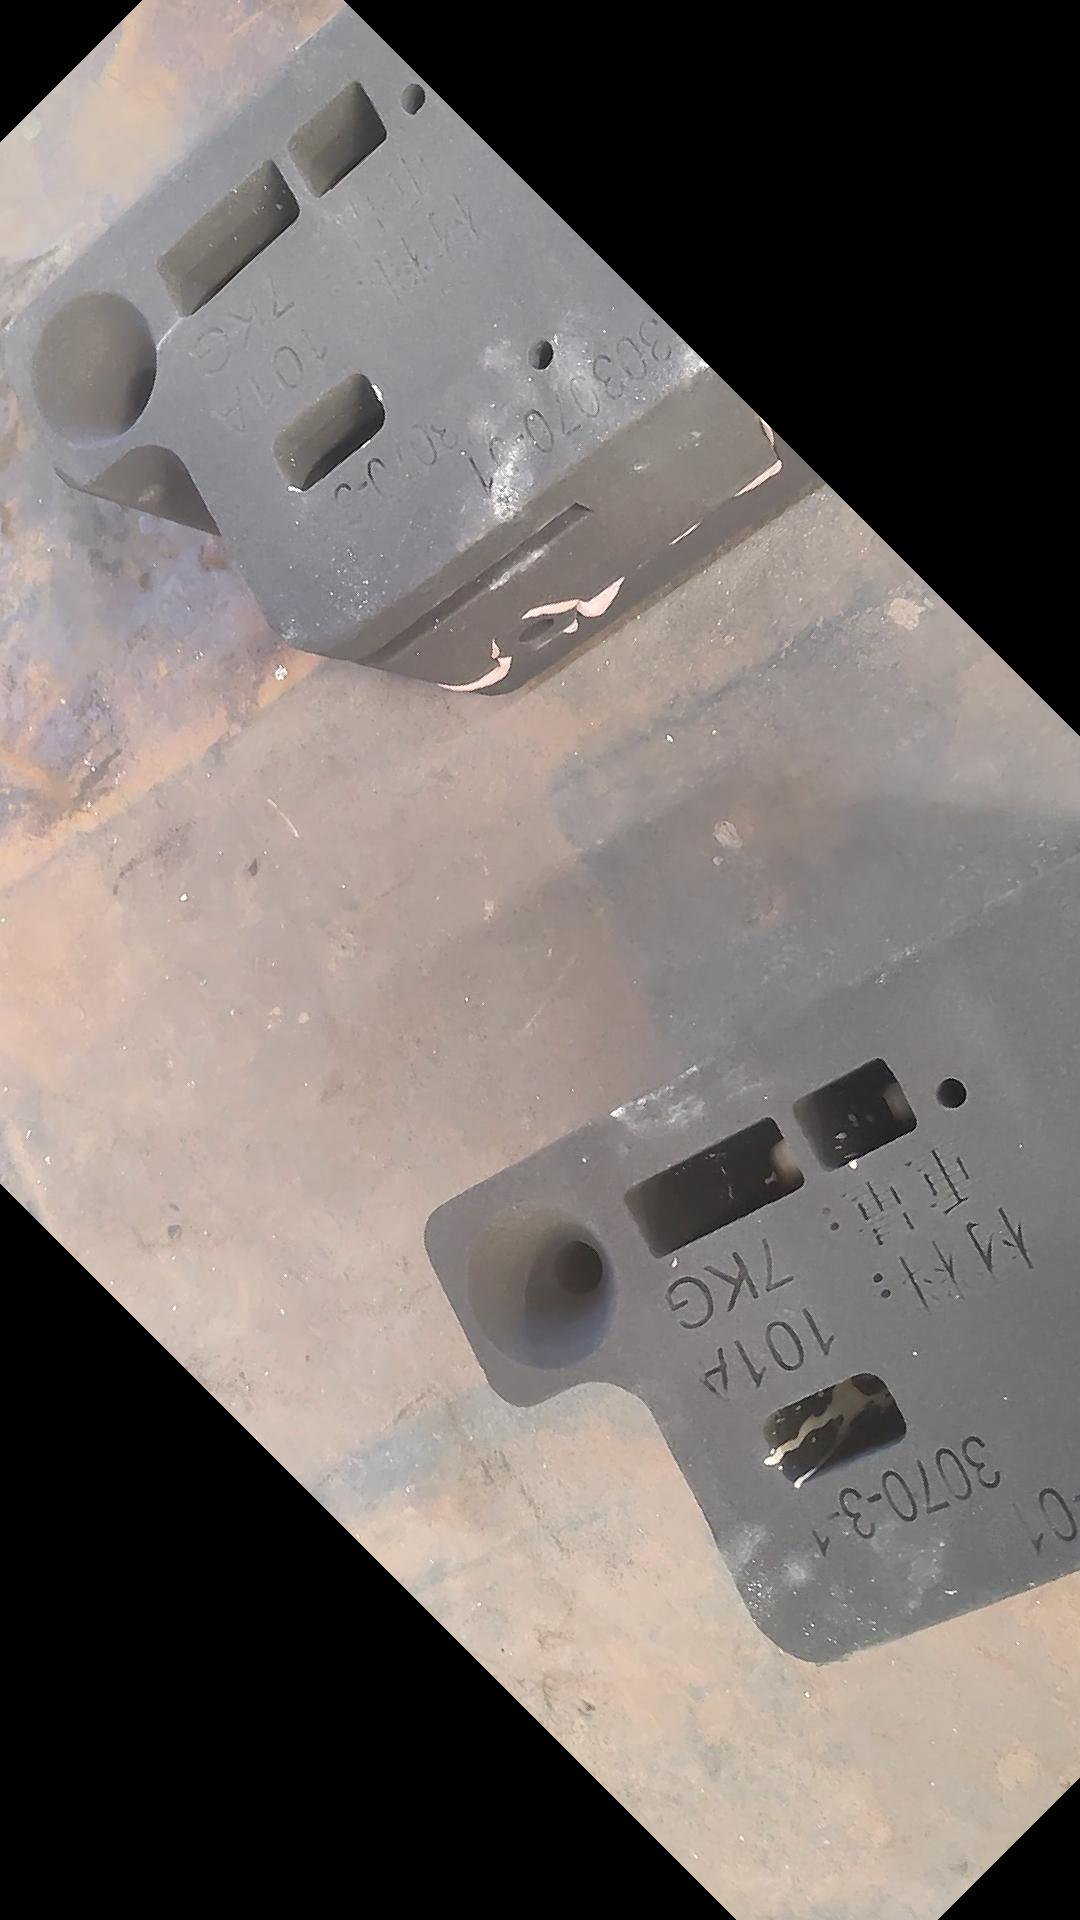pouring hole: (467, 1203, 622, 1366), (29, 290, 157, 446)
